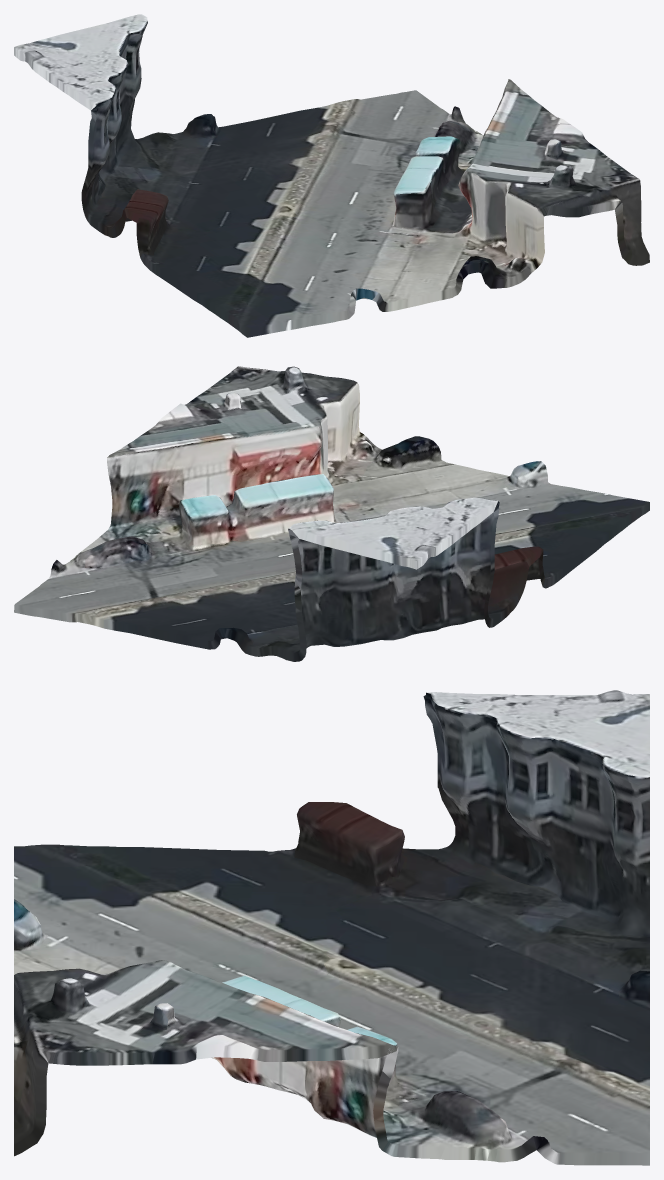
Rendered from z20-167737-405198-h0-yup-uvflip-v3-world.glb.
3 renders of one model, top to bottom at view 1: azimuth 30°, elevation 25°; view 2: azimuth 150°, elevation 25°; view 3: azimuth 270°, elevation 25°, orthographic. The views are drawn at different scales.
Size of the model in its own units: 30.2 by 10.92 by 30.32.
Materials: 1 (1 with a texture image).
